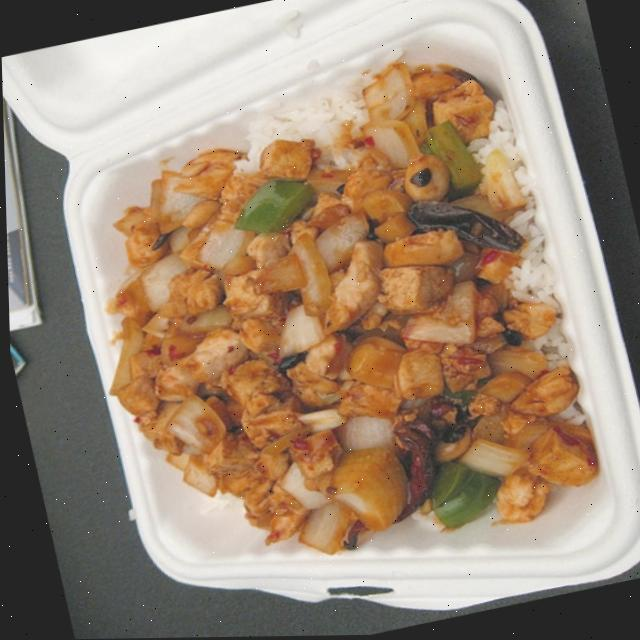鸡肉料理 含炸鸡: (9, 17, 640, 640)
